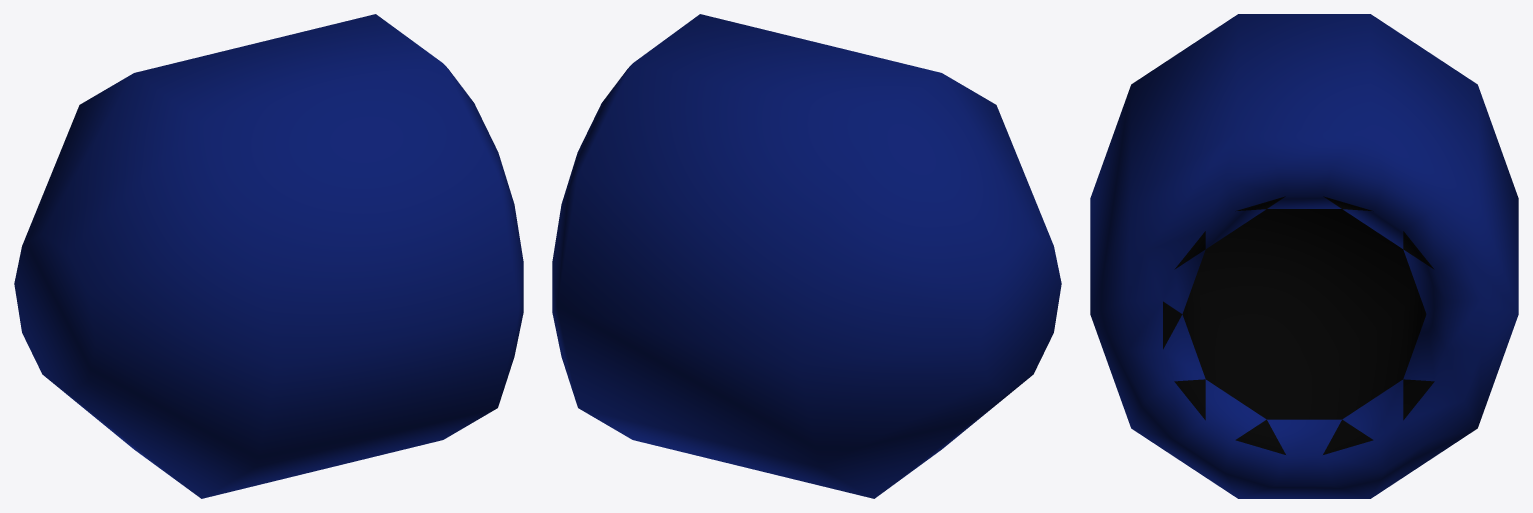
The model's file is Flamethrower.fbx.
3 views of the same model, side by side, from view 1: azimuth 30°, elevation 25°; view 2: azimuth 150°, elevation 25°; view 3: azimuth 270°, elevation 25° (orthographic).
Visible parts, largest first — view 1: Cylinder; view 2: Cylinder; view 3: Cylinder.
Boxes of the visible parts, x1,y1,x2,y2 form: Cylinder: (14, 14, 523, 498); Cylinder: (552, 14, 1061, 498); Cylinder: (1090, 14, 1518, 498).
Size of the model in its own units: 200 by 190 by 200.
